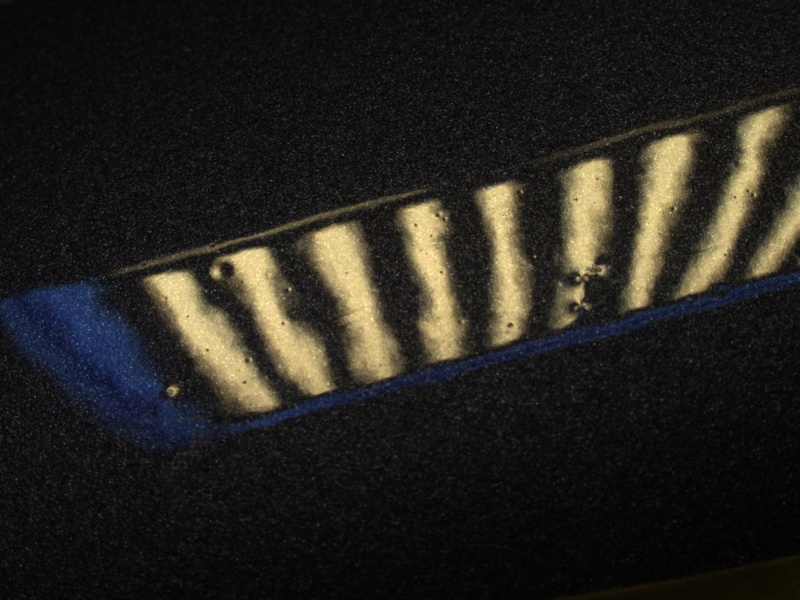bad: (561, 252, 619, 290), (200, 252, 239, 288), (563, 294, 599, 319)
